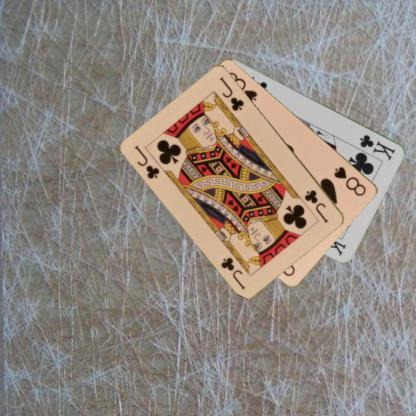8s: (331, 164, 368, 198)
Jc: (132, 142, 162, 180), (302, 187, 330, 224)
Kc: (358, 132, 398, 162)
